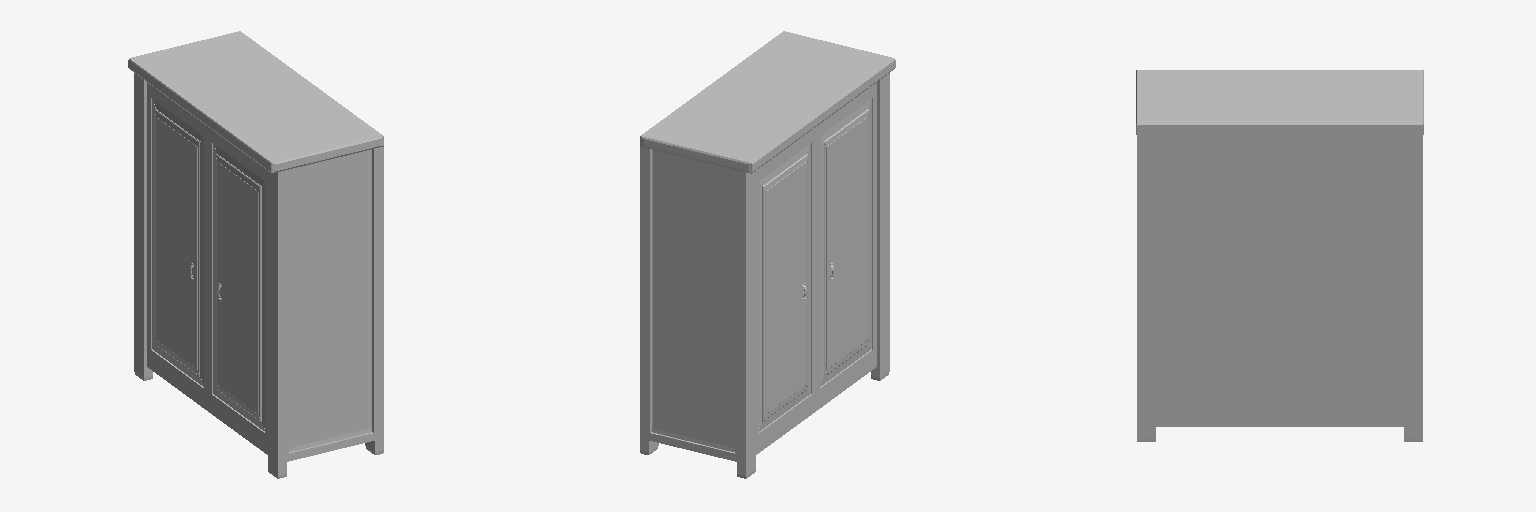
File: wardrobe.obj
3 views of the same model, side by side, from view 1: azimuth 30°, elevation 25°; view 2: azimuth 150°, elevation 25°; view 3: azimuth 270°, elevation 25° (orthographic).
Parts seen in each view (by area): view 1: Cube.001_Cube.002; view 2: Cube.001_Cube.002; view 3: Cube.001_Cube.002.
Boxes of the visible parts, x1=… form: Cube.001_Cube.002: x1=128, y1=31, x2=383, y2=478; Cube.001_Cube.002: x1=640, y1=31, x2=895, y2=478; Cube.001_Cube.002: x1=1136, y1=70, x2=1423, y2=441.
Bounding box in the file's own units: 0.8 × 2.17 × 1.78.